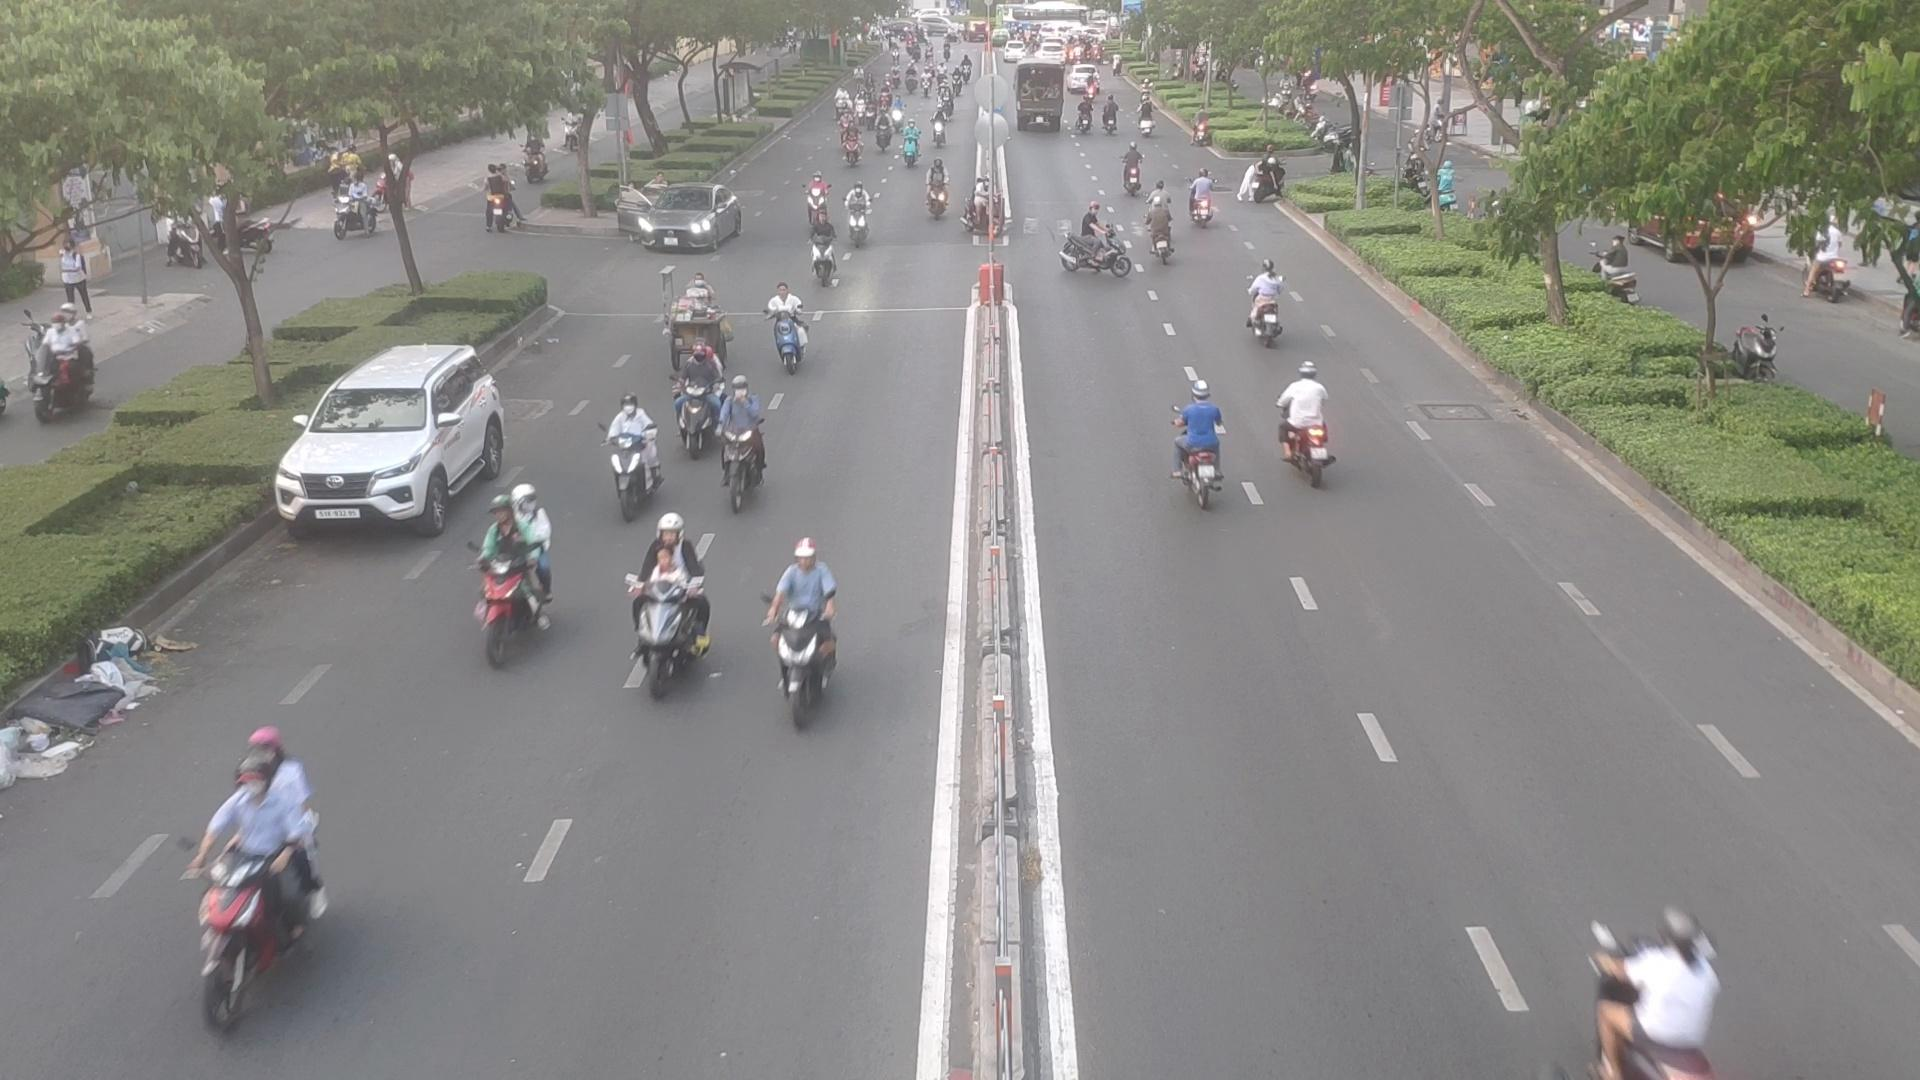car: (272, 343, 512, 534), (618, 189, 749, 258)
motorbike: (191, 721, 319, 1004), (1590, 899, 1733, 1080), (630, 493, 699, 690), (773, 545, 847, 709), (1166, 367, 1240, 513), (472, 550, 556, 670), (1274, 344, 1336, 493), (611, 382, 666, 535), (713, 381, 771, 512), (667, 334, 721, 440), (760, 284, 808, 389), (1062, 204, 1130, 277), (1247, 260, 1291, 344), (803, 219, 841, 295), (843, 177, 866, 256), (1150, 199, 1176, 270), (1120, 133, 1147, 200), (796, 181, 831, 229), (920, 160, 949, 214), (1193, 164, 1216, 229), (844, 113, 864, 171), (903, 121, 919, 166)
